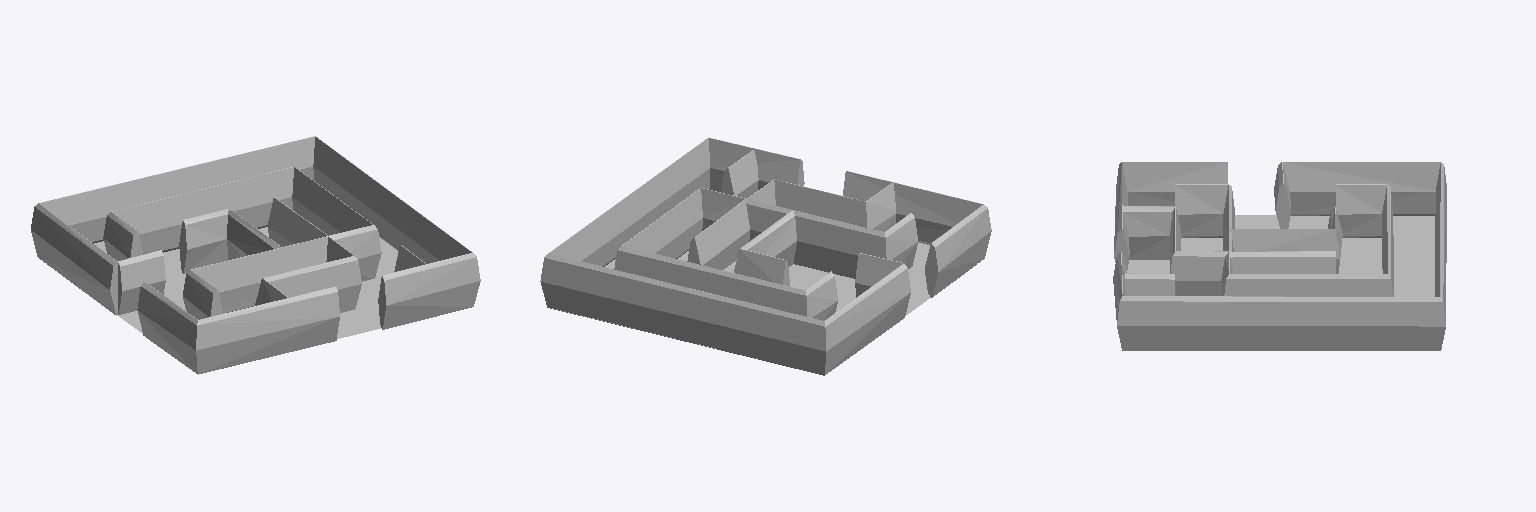
Rendered from maze.obj.
The picture shows the model from 3 angles: view 1: azimuth 30°, elevation 25°; view 2: azimuth 150°, elevation 25°; view 3: azimuth 270°, elevation 25°; orthographic projection.
Visible parts, largest first — view 1: wall_01, wall_06, wall_05, wall_02, wall_08, floor, wall_09, wall_07, wall_04; view 2: wall_01, wall_02, wall_06, wall_04, wall_08, wall_05, wall_07, floor, wall_03, wall_09; view 3: wall_01, wall_02, wall_06, floor, wall_04, wall_08, wall_07, wall_03, wall_09.
Part boxes in pixels (x1,y1,x2,y2): wall_01: (31, 136, 480, 329); wall_06: (103, 167, 381, 281); wall_05: (137, 287, 339, 374); wall_02: (183, 236, 361, 319); wall_08: (179, 209, 280, 273); floor: (38, 227, 397, 372); wall_09: (118, 250, 165, 314); wall_07: (268, 197, 327, 246); wall_04: (141, 281, 337, 325); wall_01: (540, 137, 910, 375); wall_02: (746, 179, 917, 278); wall_06: (614, 188, 837, 320); wall_04: (843, 171, 987, 297); wall_08: (734, 210, 796, 285); wall_05: (918, 208, 991, 297); wall_07: (687, 199, 749, 269); floor: (552, 242, 981, 372); wall_03: (721, 150, 758, 198); wall_09: (855, 253, 904, 297); wall_01: (1113, 162, 1446, 350); wall_02: (1123, 184, 1234, 295); wall_06: (1221, 184, 1393, 296); floor: (1127, 215, 1441, 349); wall_04: (1114, 162, 1227, 269); wall_08: (1229, 207, 1342, 273); wall_07: (1230, 251, 1335, 273); wall_03: (1125, 273, 1175, 295); wall_09: (1274, 162, 1290, 228).
Size of the model in its own units: 6.28 by 1.13 by 6.28.